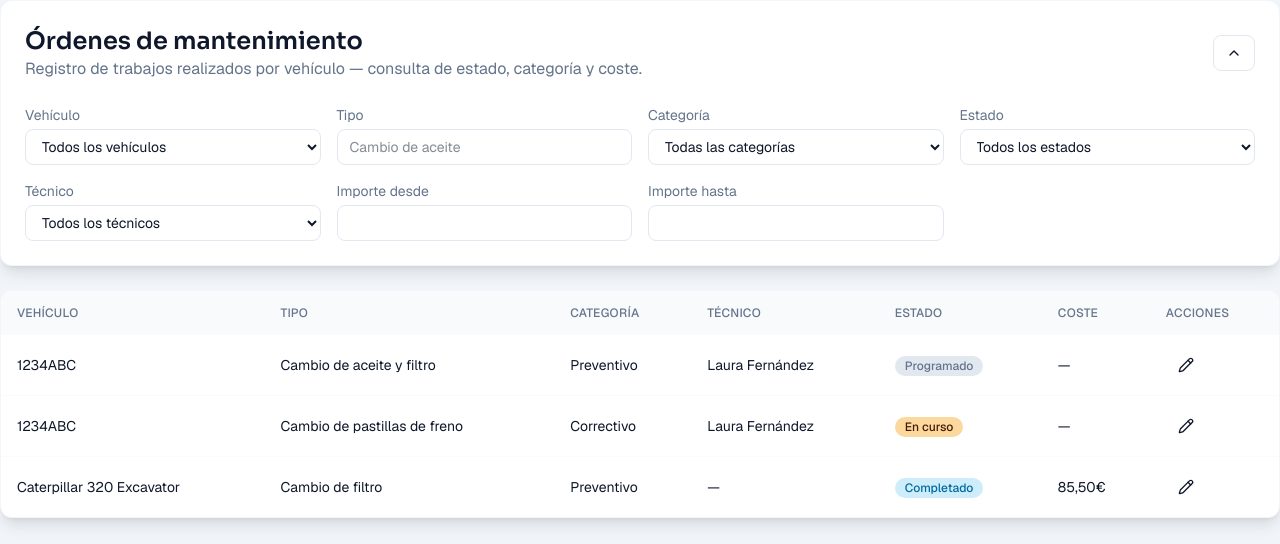
MaintenanceOrders › narrows the maintenance list with the vehicle filter
Expected: the text "Cambio de aceite y filtro" is shown, [265,335,554,396]
Select "Caterpillar 320 Excavator" in the dropdown named "filtrar por vehículo" at (173,147), box [25,129,320,165]
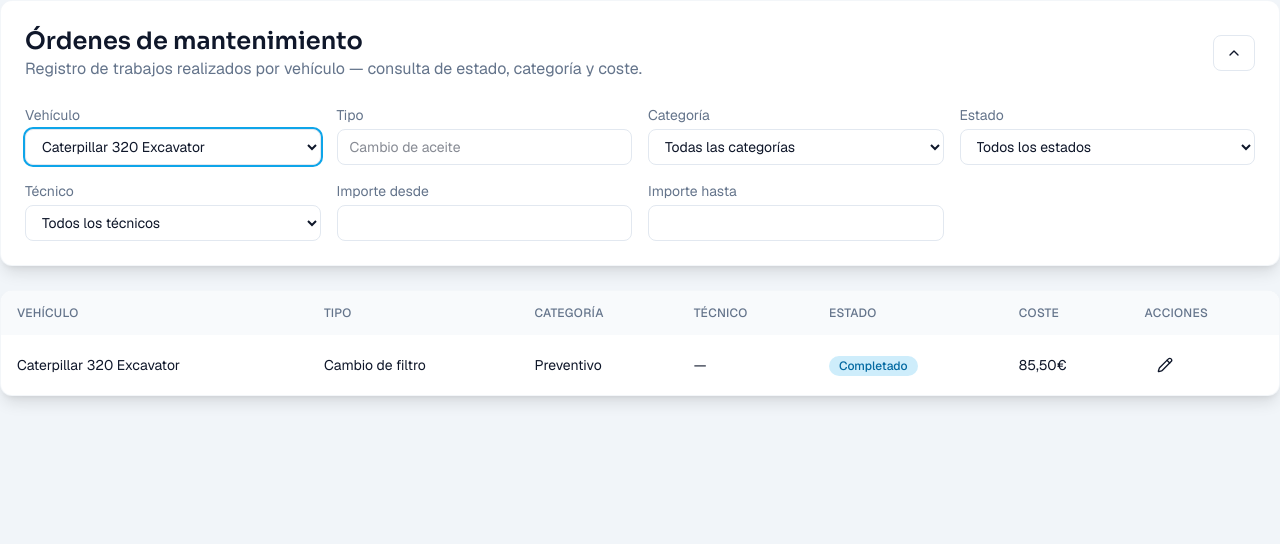
Expected: the text "Cambio de filtro" is shown, [308,335,518,395]
Now the text "Cambio de aceite y filtro" is gone
